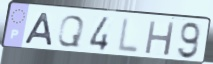4: (87, 15, 113, 53)
9: (177, 21, 202, 61)
A: (23, 11, 55, 48)
H: (143, 19, 177, 58)
L: (115, 17, 141, 56)
Q: (55, 14, 86, 49)
